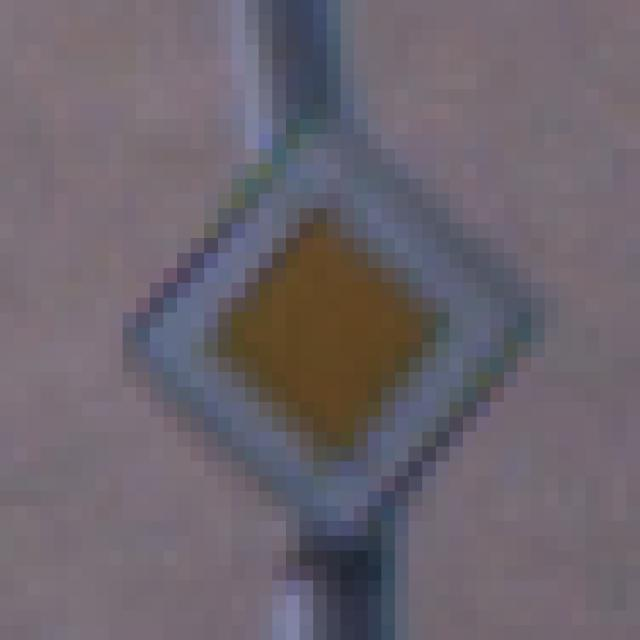Main Road: (83, 90, 573, 567)
